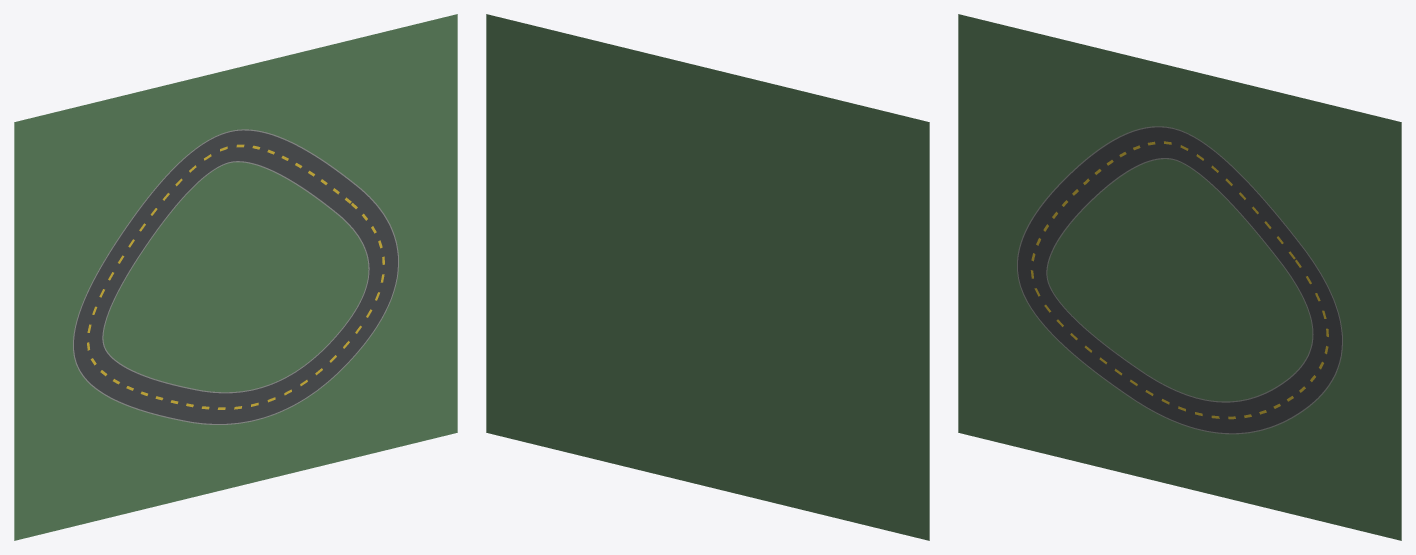
The model's file is track.obj.
3 views of the same model, side by side, from view 1: azimuth 30°, elevation 25°; view 2: azimuth 150°, elevation 25°; view 3: azimuth 330°, elevation 25° (orthographic).
Size of the model in its own units: 17.19 by 15.51 by 0.0025.
4 materials, 4 textured.
